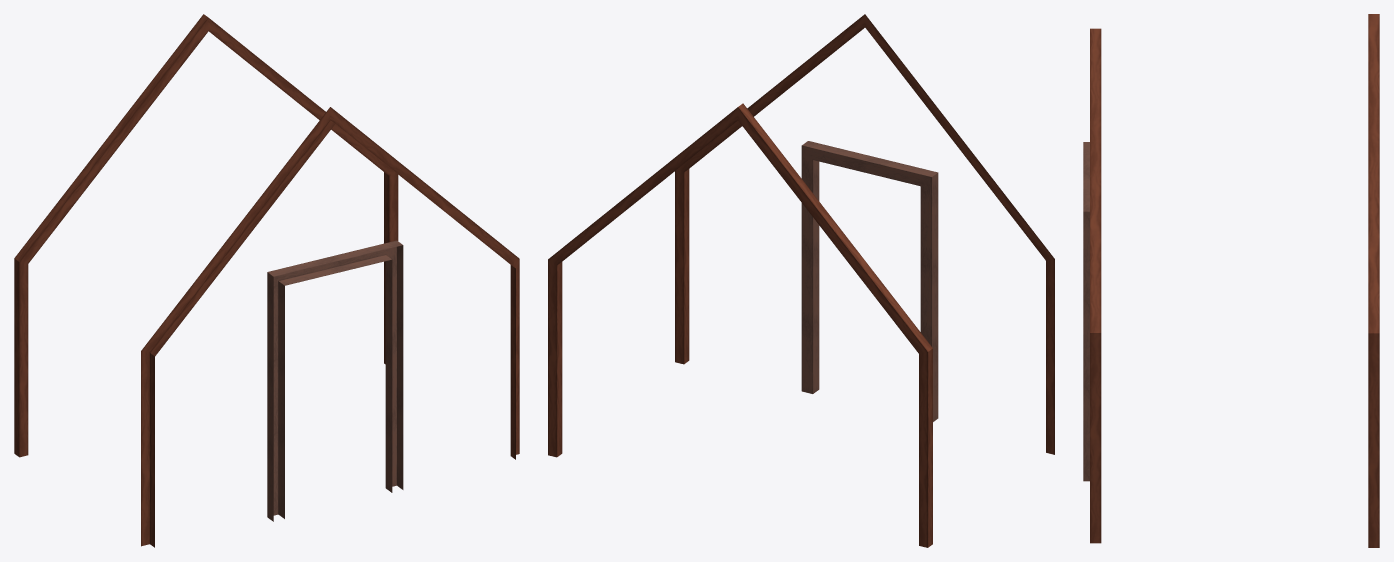
File: World_BeamEntrance.fbx
3 renders of one model, left to right at view 1: azimuth 30°, elevation 25°; view 2: azimuth 150°, elevation 25°; view 3: azimuth 270°, elevation 25°, orthographic. The views are drawn at different scales.
Parts seen in each view (by area): view 1: World_BeamEntrance; view 2: World_BeamEntrance; view 3: World_BeamEntrance.
Boxes of the visible parts, x1,y1,x2,y2 form: World_BeamEntrance: [14, 14, 519, 547]; World_BeamEntrance: [548, 14, 1054, 547]; World_BeamEntrance: [1083, 14, 1379, 547].
Bounding box in the file's own units: 3.38 × 3.36 × 2.09.
